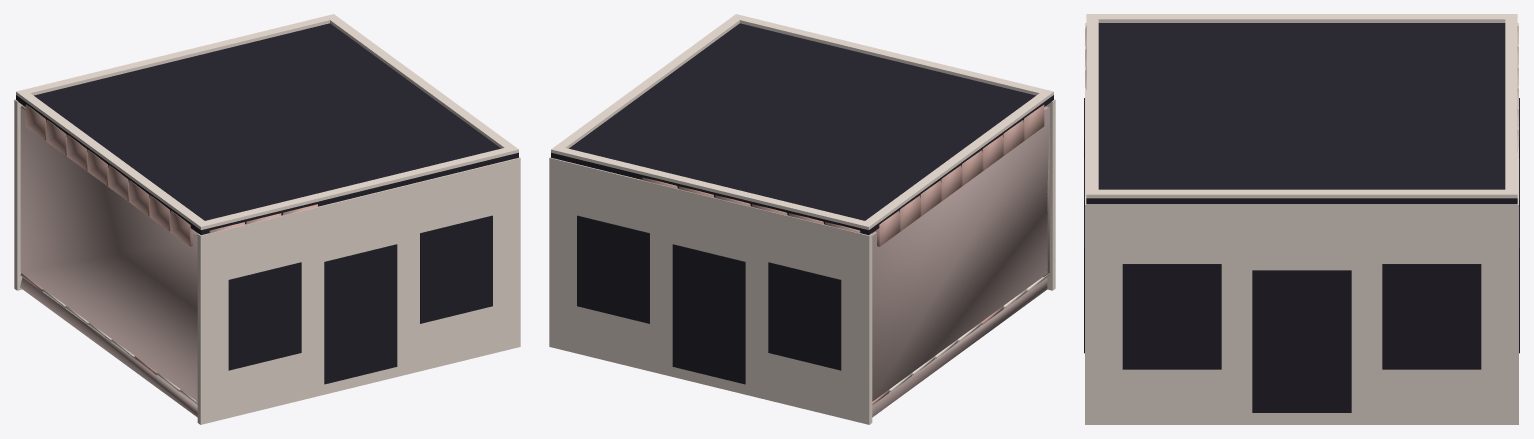
3 renders of one model, left to right at view 1: azimuth 30°, elevation 25°; view 2: azimuth 150°, elevation 25°; view 3: azimuth 270°, elevation 25°, orthographic. The views are drawn at different scales.
Visible parts, largest first — view 1: roof_pal_uiDark, roof_pal_picketWhite, interior; view 2: roof_pal_uiDark, roof_pal_picketWhite, interior; view 3: roof_pal_uiDark, roof_pal_picketWhite.
Boxes of the visible parts, left/top/right/bottom form: roof_pal_uiDark: left=16, top=23, right=518, bottom=384; roof_pal_picketWhite: left=14, top=14, right=520, bottom=424; interior: left=20, top=104, right=317, bottom=417; roof_pal_uiDark: left=551, top=23, right=1053, bottom=384; roof_pal_picketWhite: left=549, top=14, right=1055, bottom=424; interior: left=642, top=105, right=1049, bottom=417; roof_pal_uiDark: left=1084, top=23, right=1519, bottom=412; roof_pal_picketWhite: left=1085, top=14, right=1518, bottom=424.
Bounding box in the file's own units: 6.32 × 3.71 × 6.38.
